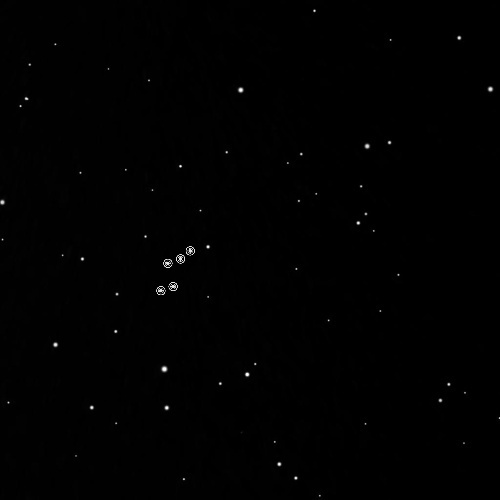lyra: (144, 241, 202, 306)
